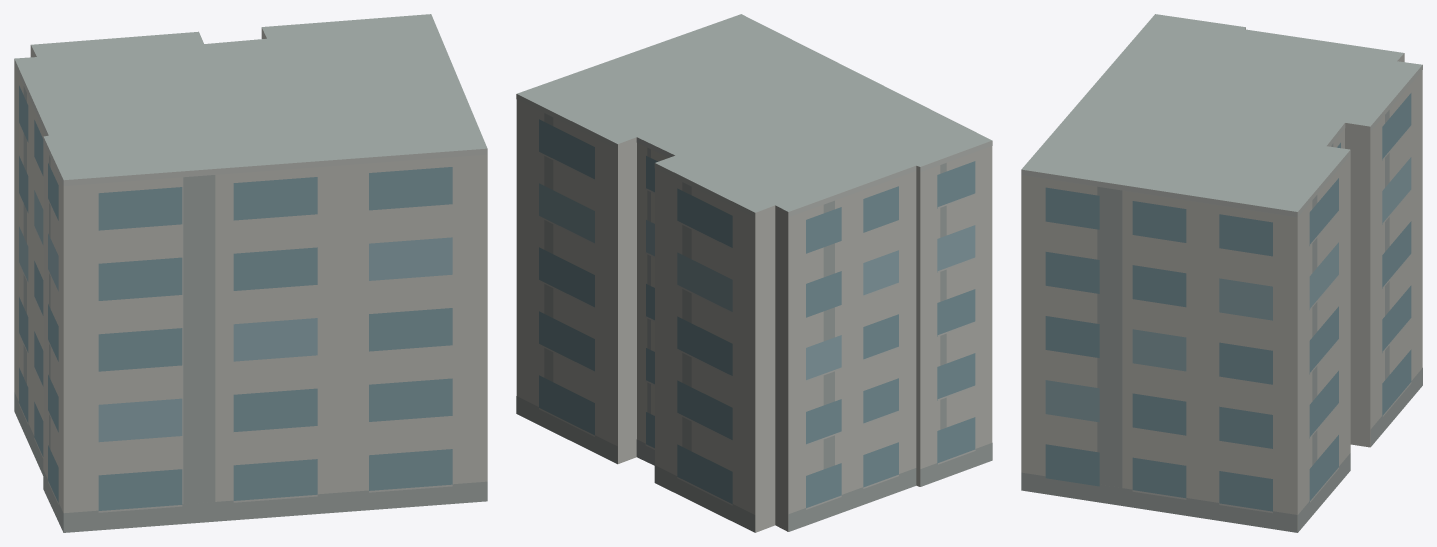
Rendered from survey-upis-32958362.glb.
3 views of the same model, side by side, from view 1: azimuth 30°, elevation 25°; view 2: azimuth 150°, elevation 25°; view 3: azimuth 270°, elevation 25° (orthographic). The views are drawn at different scales.
Parts seen in each view (by area): view 1: survey-upis-32958362.tmp; view 2: survey-upis-32958362.tmp; view 3: survey-upis-32958362.tmp.
Part boxes in pixels (x1,y1,x2,y2): survey-upis-32958362.tmp: [14, 14, 487, 532]; survey-upis-32958362.tmp: [516, 14, 992, 532]; survey-upis-32958362.tmp: [1021, 14, 1422, 532].
Size of the model in its own units: 19.07 by 14.4 by 16.34.
